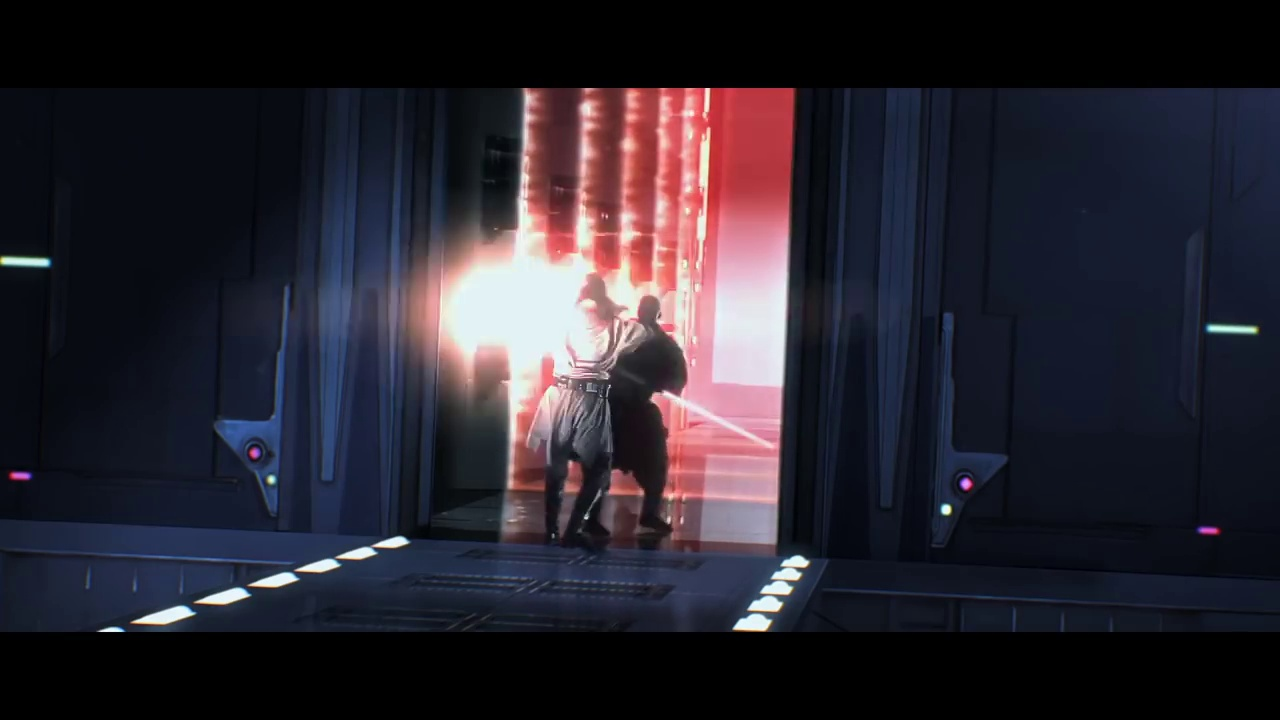lightsaber: (654, 386, 781, 454)
